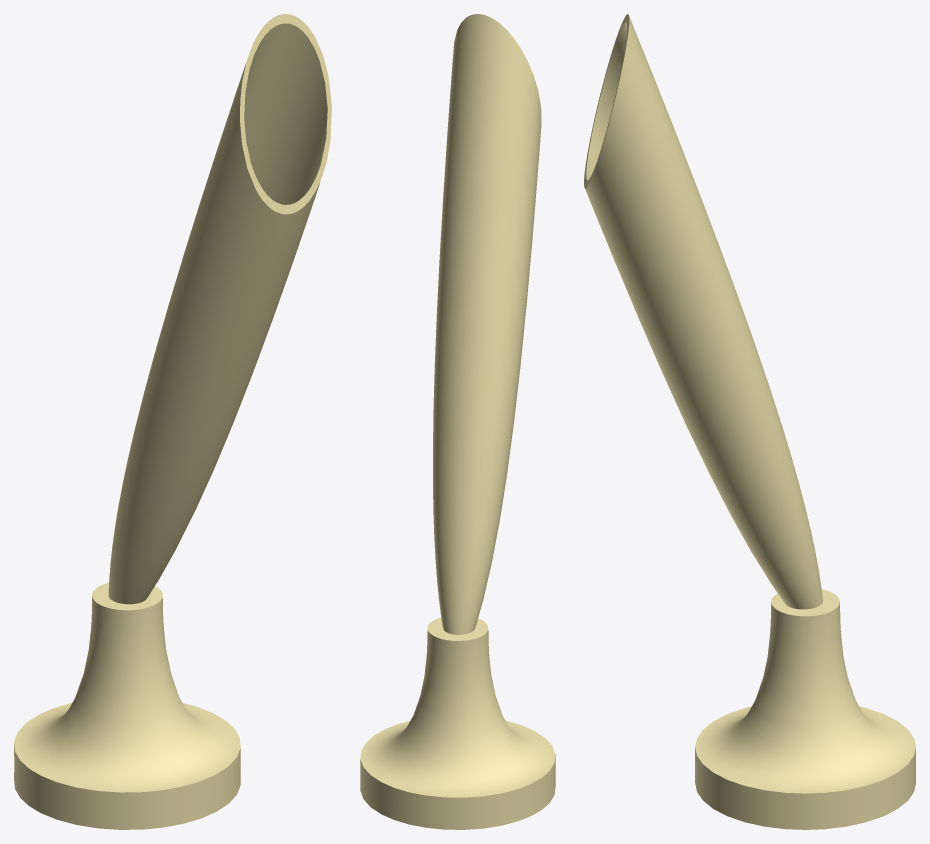
Rendered from 639_ペンスタンド.glb.
3 renders of one model, left to right at view 1: azimuth 30°, elevation 25°; view 2: azimuth 150°, elevation 25°; view 3: azimuth 270°, elevation 25°, orthographic. The views are drawn at different scales.
Parts seen in each view (by area): view 1: Body; view 2: Body; view 3: Body.
Part boxes in pixels (box(x1,y1,x2,y2)): Body: box(14, 14, 331, 829); Body: box(360, 14, 555, 829); Body: box(584, 14, 915, 829).
Size of the model in its own units: 0.0225 by 0.0875 by 0.0331.
